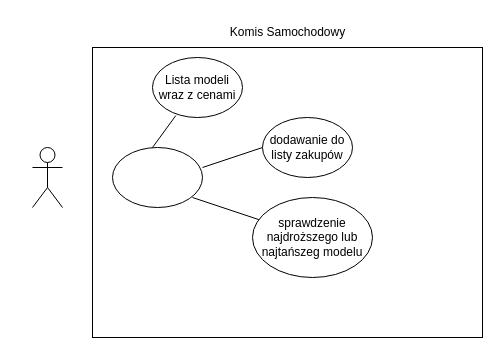
This 500x355 diagram has some shape labels left out. Each missing label, with the centre of its shape:
"Użytkownik" goes at (x=47, y=177).
"zarządzanie listą zakupów" goes at (x=157, y=177).
